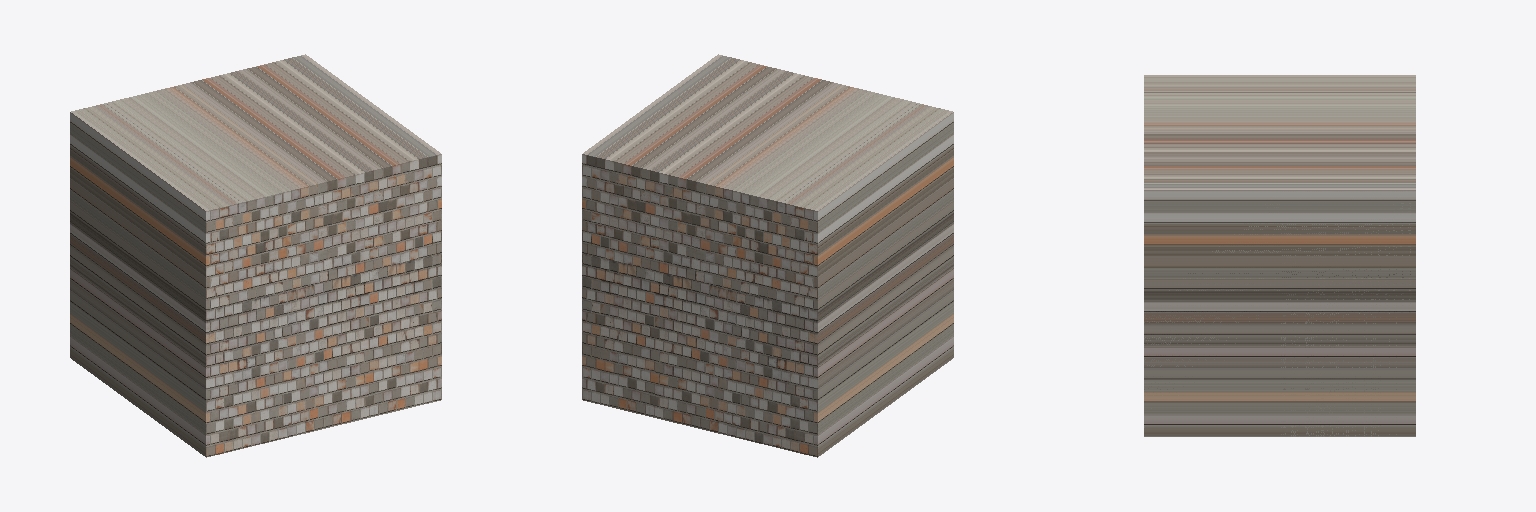
3 renders of one model, left to right at view 1: azimuth 30°, elevation 25°; view 2: azimuth 150°, elevation 25°; view 3: azimuth 270°, elevation 25°, orthographic.
Visible parts, largest first — view 1: Box02; view 2: Box02; view 3: Box02.
Boxes of the visible parts, <box> form: Box02: <box>70,54,441,457</box>; Box02: <box>582,54,953,457</box>; Box02: <box>1144,75,1415,436</box>.
Bounding box in the file's own units: 3.9 × 3.9 × 3.9.
Materials: 1 (1 with a texture image).